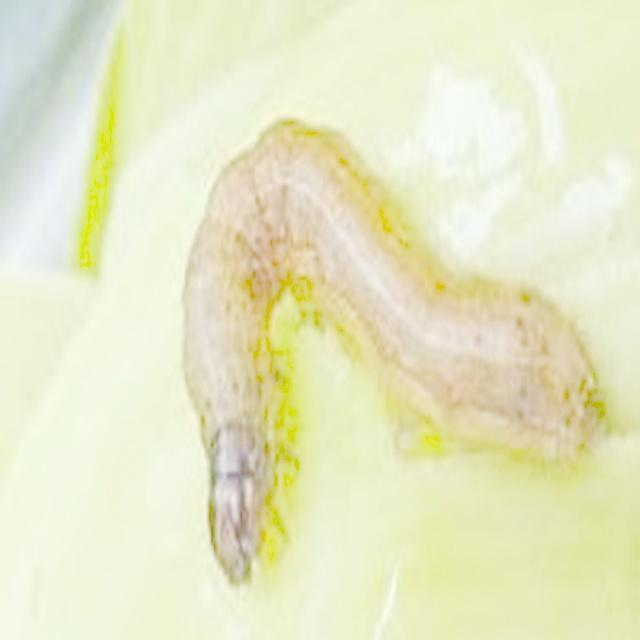worm: (180, 116, 611, 588)
